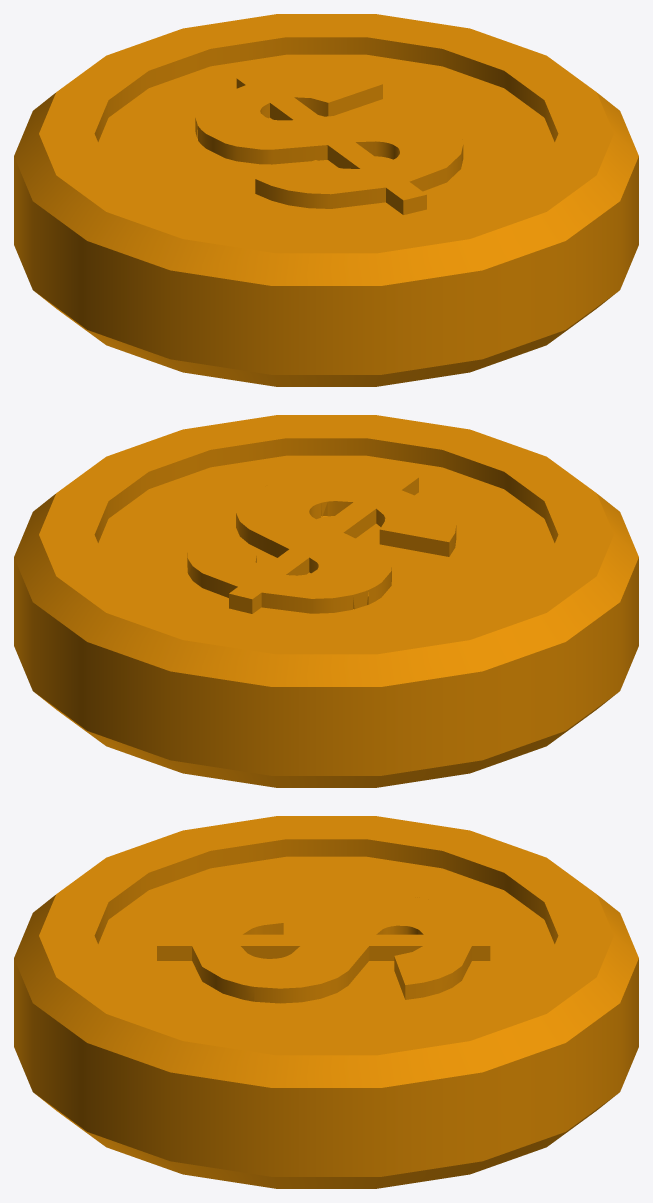
File: coin.glb
3 renders of one model, top to bottom at view 1: azimuth 30°, elevation 25°; view 2: azimuth 150°, elevation 25°; view 3: azimuth 270°, elevation 25°, orthographic.
Visible parts, largest first — view 1: Coin_New; view 2: Coin_New; view 3: Coin_New.
Part boxes in pixels (x1=…): Coin_New: x1=14, y1=14, x2=638, y2=386; Coin_New: x1=14, y1=415, x2=638, y2=787; Coin_New: x1=14, y1=816, x2=638, y2=1188.
Bounding box in the file's own units: 1.97 × 0.4711 × 2.
